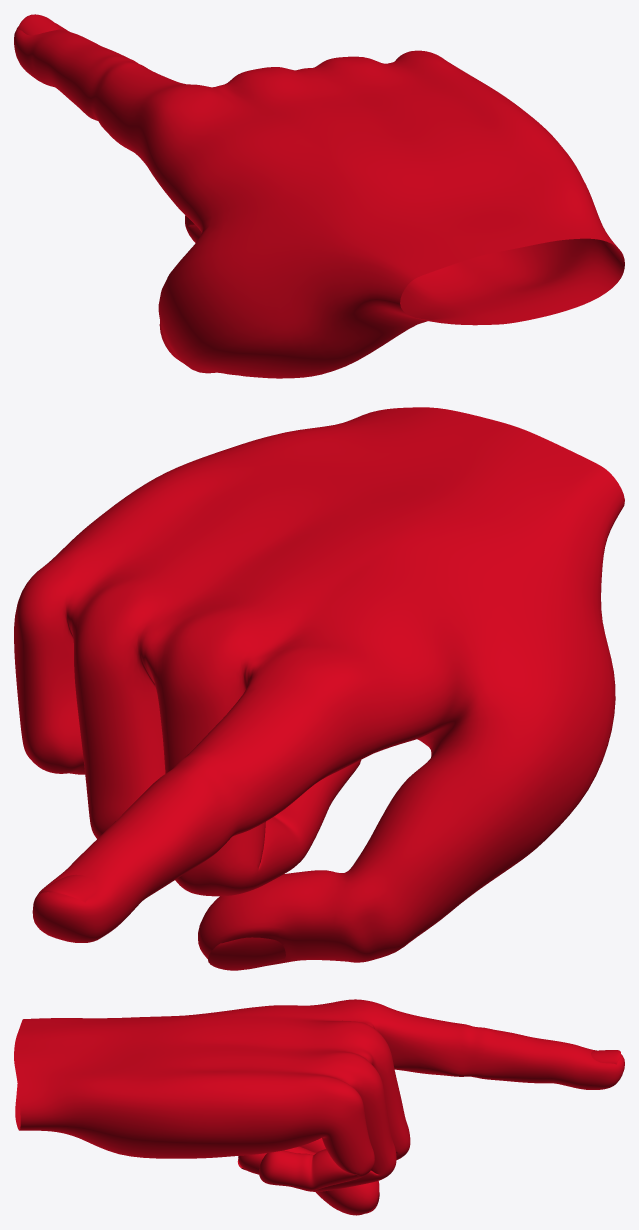
File: hand.dae
3 views of the same model, one above another, from view 1: azimuth 30°, elevation 25°; view 2: azimuth 150°, elevation 25°; view 3: azimuth 270°, elevation 25° (orthographic). The views are drawn at different scales.
Parts seen in each view (by area): view 1: hand; view 2: hand; view 3: hand.
Boxes of the visible parts, x1,y1,x2,y2 form: hand: (14,14,624,378); hand: (14,407,624,970); hand: (14,999,624,1215).
Size of the model in its own units: 3.7 by 7.42 by 2.61.
